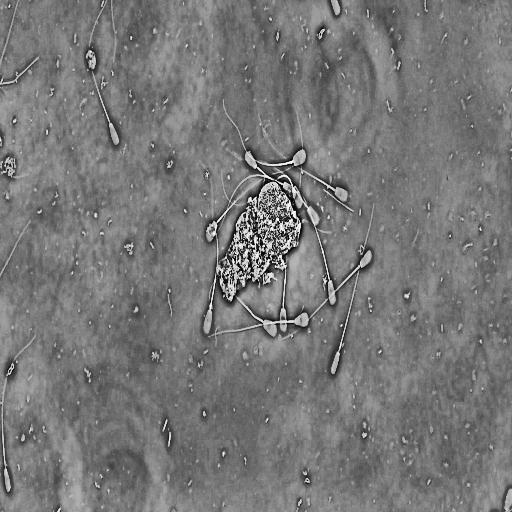dirt-particles: (214, 179, 303, 304), (3, 154, 18, 180), (84, 46, 97, 72)
loose-tail: (1, 215, 34, 280), (0, 51, 41, 88), (110, 0, 119, 67)
normal: (256, 108, 351, 205), (280, 247, 374, 343), (330, 197, 376, 377), (204, 164, 295, 245), (221, 97, 310, 170), (1, 330, 38, 496), (215, 173, 298, 239), (87, 0, 121, 148), (298, 185, 338, 307), (206, 310, 311, 341), (202, 168, 219, 338), (234, 294, 278, 339), (278, 252, 289, 334)
